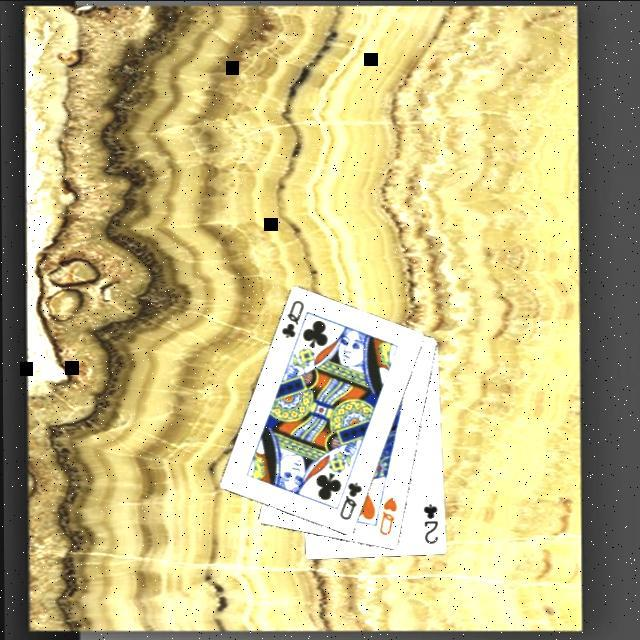2C: (422, 498, 442, 546)
QC: (337, 476, 367, 522), (280, 295, 310, 340)
QH: (378, 492, 402, 537)
